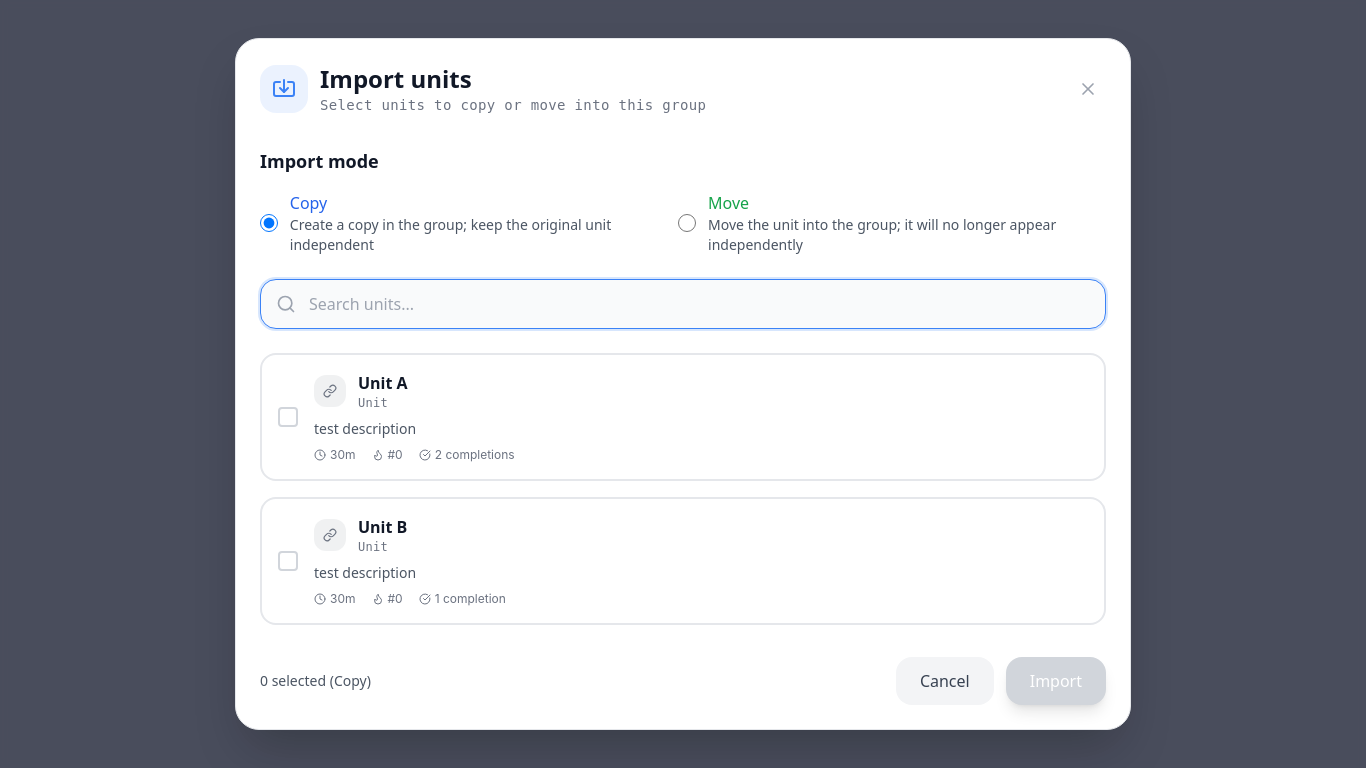
it: ImportUnitsModal › searches units and renders an empty result state
The image size is (1366, 768).
Type "Unit B" into the search field labelled "Search units". click: (683, 304)
box: x1=260 y1=279 x2=1106 y2=329
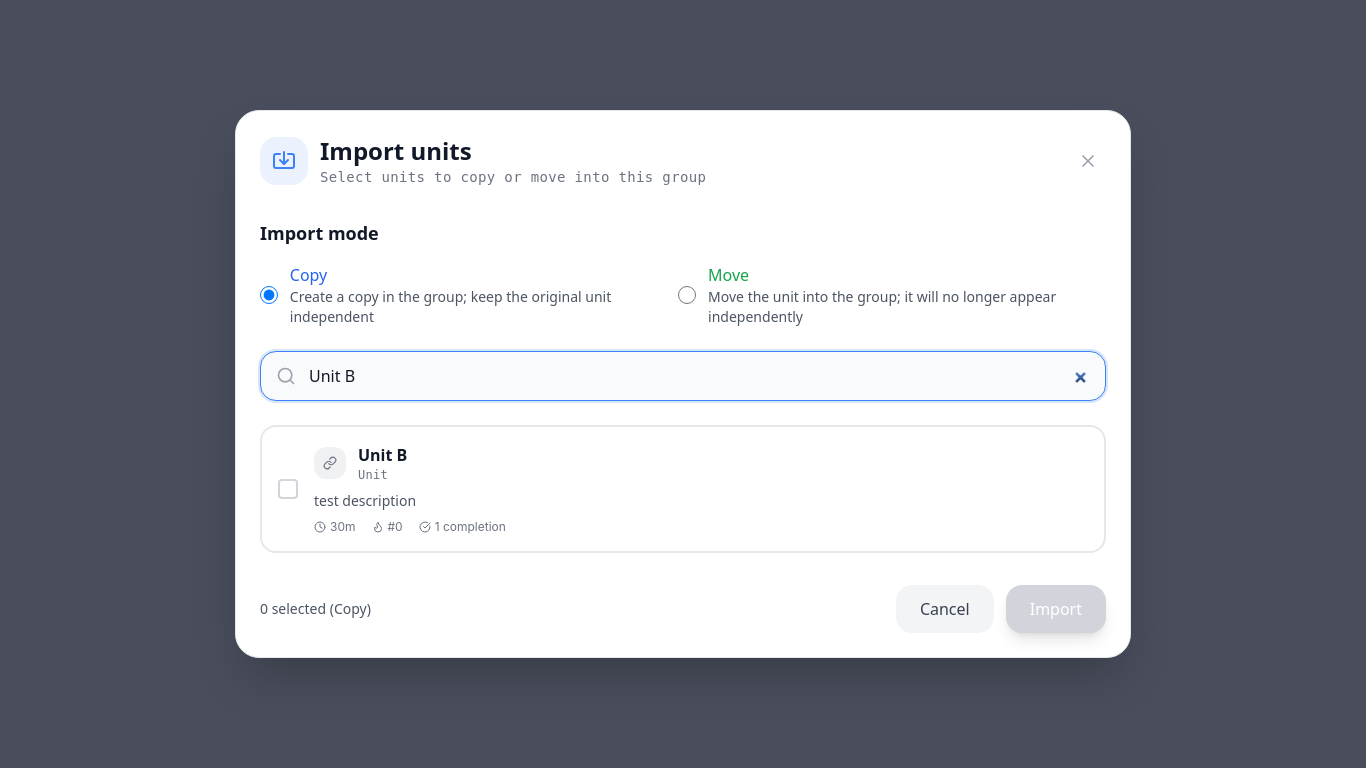
Check: the button with aria-label "Select unit: Unit B" is shown, box x1=260 y1=425 x2=1106 y2=553
Clear the search field named "Search units". click: (683, 376)
box: x1=260 y1=351 x2=1106 y2=401
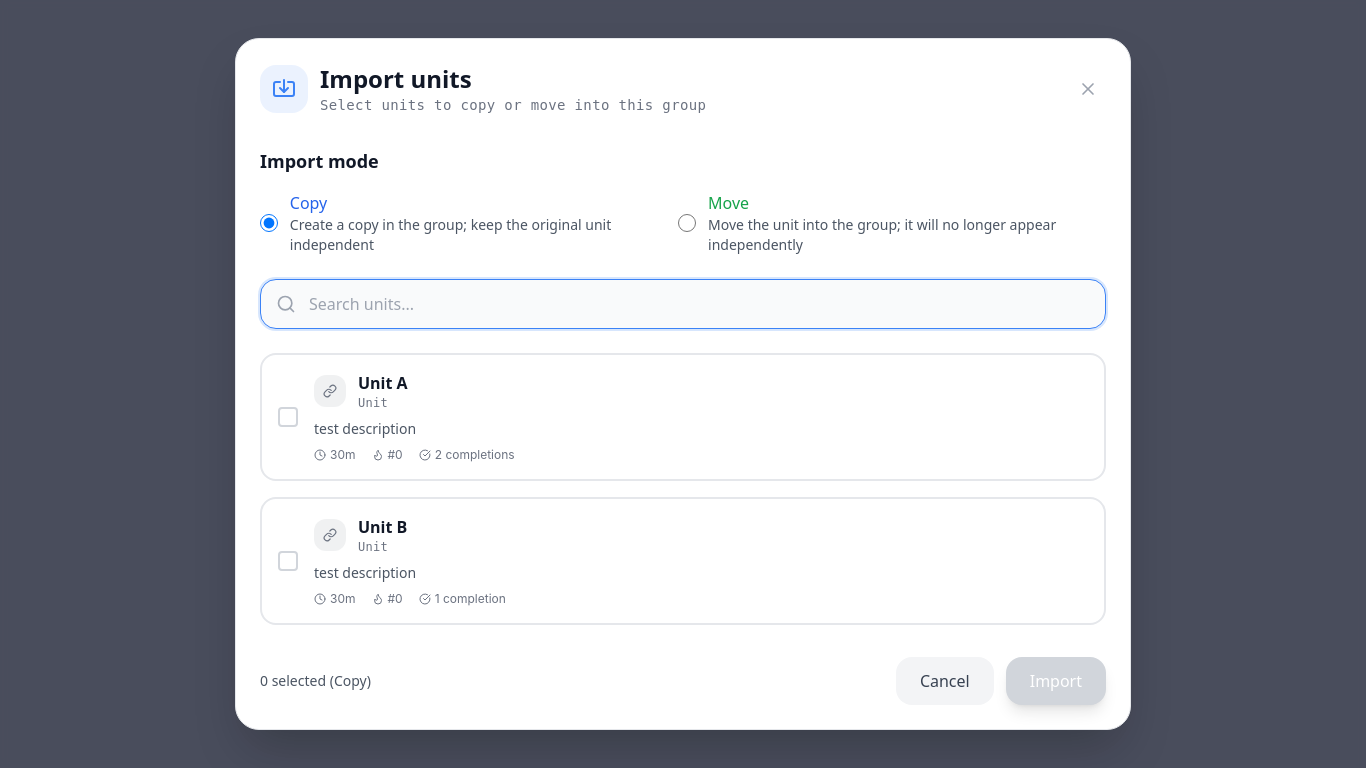
Type "missing" into the search field labelled "Search units". click: (683, 304)
box: x1=260 y1=279 x2=1106 y2=329
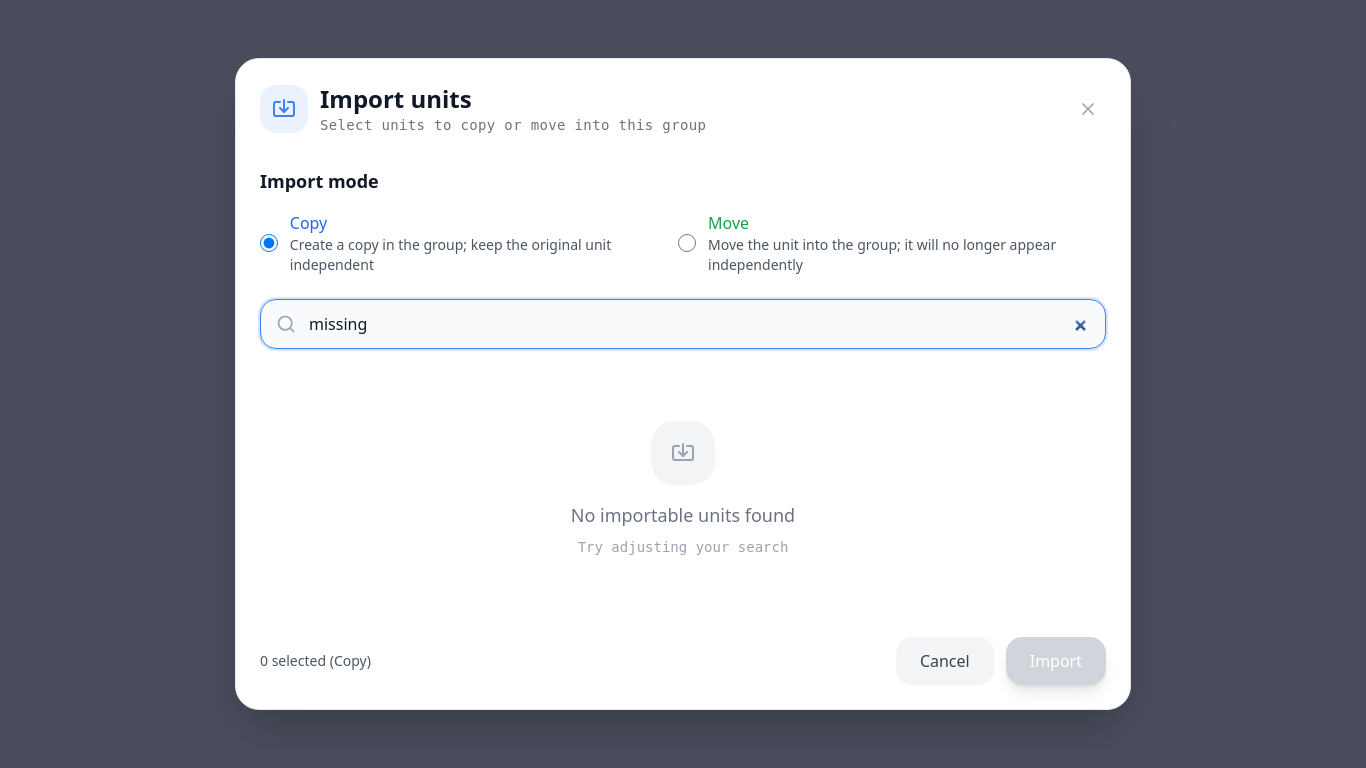
Check: the text "No importable units found" is shown, box x1=571 y1=503 x2=795 y2=527
Check: the text "Try adjusting your search" is shown, box x1=578 y1=539 x2=788 y2=555
